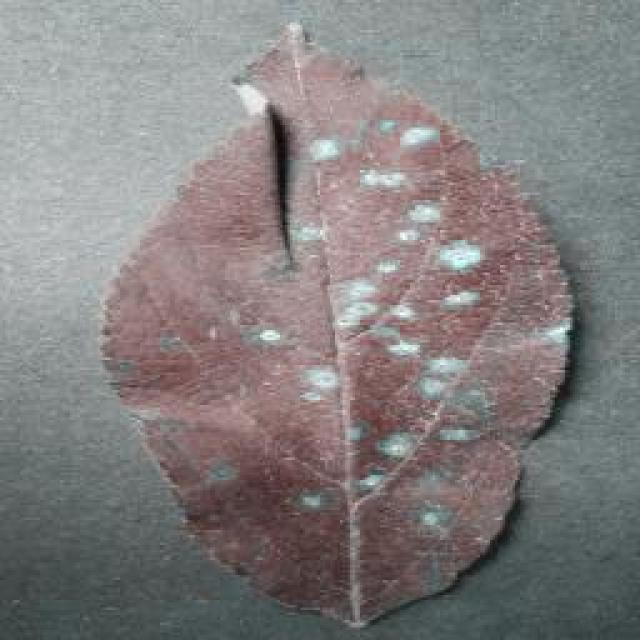apple healthy: (95, 20, 577, 628)
